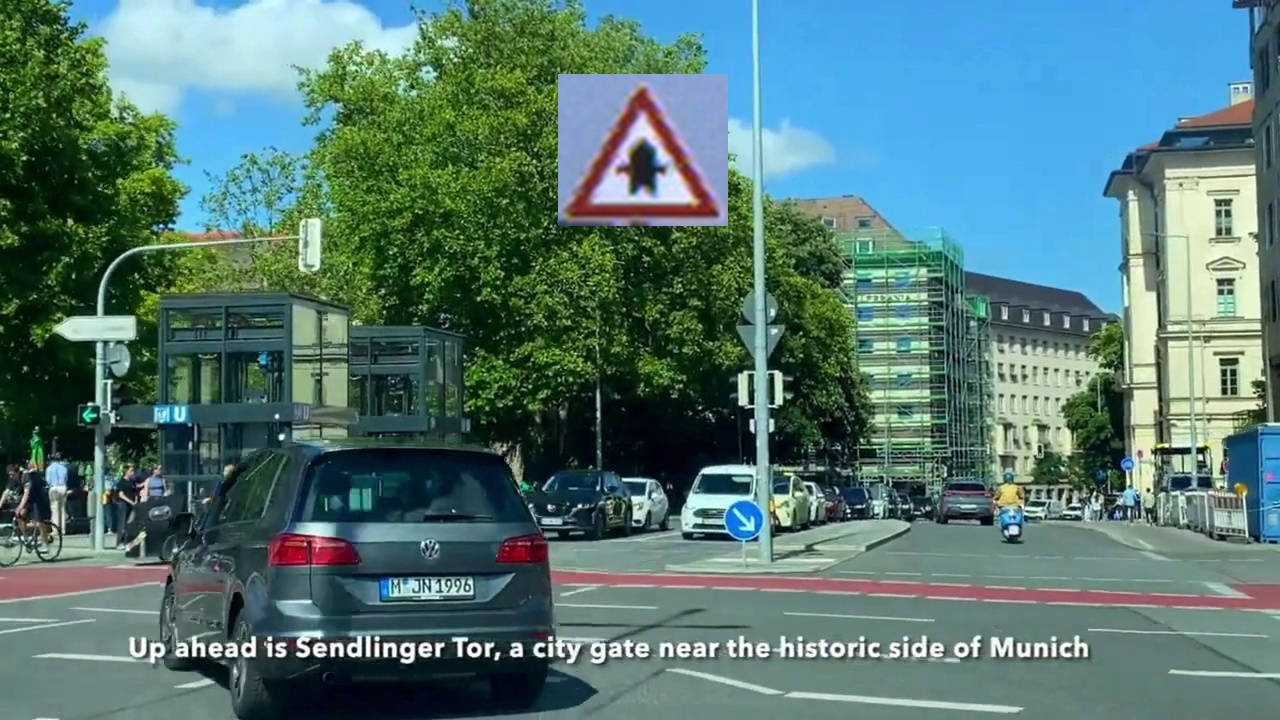Right-of-way: (558, 74, 728, 226)
